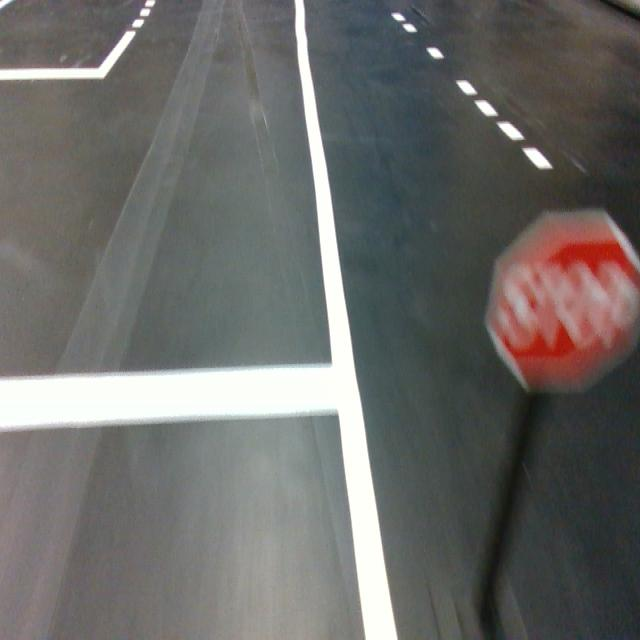stop-sign: (485, 212, 640, 395)
